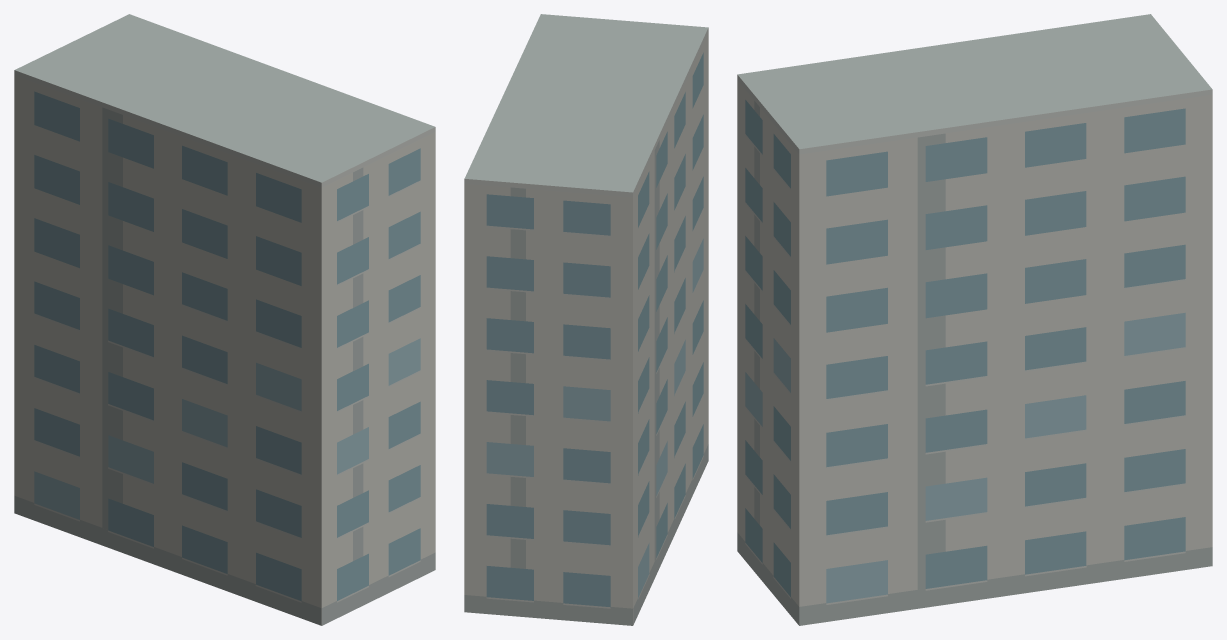
Rendered from survey-upis-33046199.glb.
3 views of the same model, side by side, from view 1: azimuth 30°, elevation 25°; view 2: azimuth 150°, elevation 25°; view 3: azimuth 270°, elevation 25° (orthographic). The views are drawn at different scales.
Visible parts, largest first — view 1: survey-upis-33046199.tmp; view 2: survey-upis-33046199.tmp; view 3: survey-upis-33046199.tmp.
Part boxes in pixels (<box>): survey-upis-33046199.tmp: <box>14,14,435,625</box>; survey-upis-33046199.tmp: <box>464,14,708,625</box>; survey-upis-33046199.tmp: <box>737,14,1212,625</box>.
Bounding box in the file's own units: 13.09 × 21.5 × 19.44.
